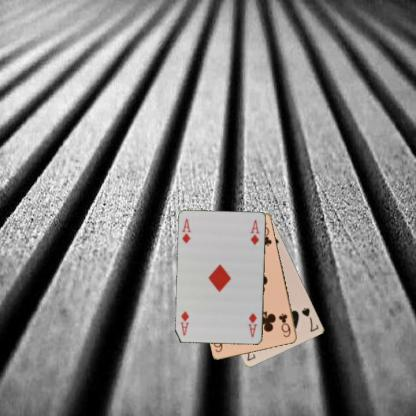6c: (276, 311, 292, 338)
7s: (299, 305, 320, 333)
Ad: (246, 310, 258, 339), (180, 216, 192, 245)
